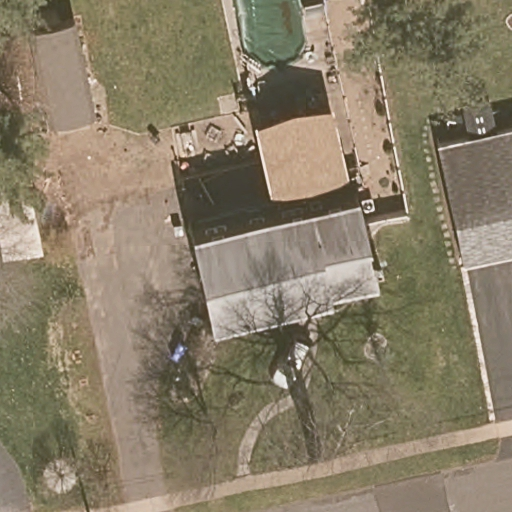DT: (74, 455, 91, 512)
